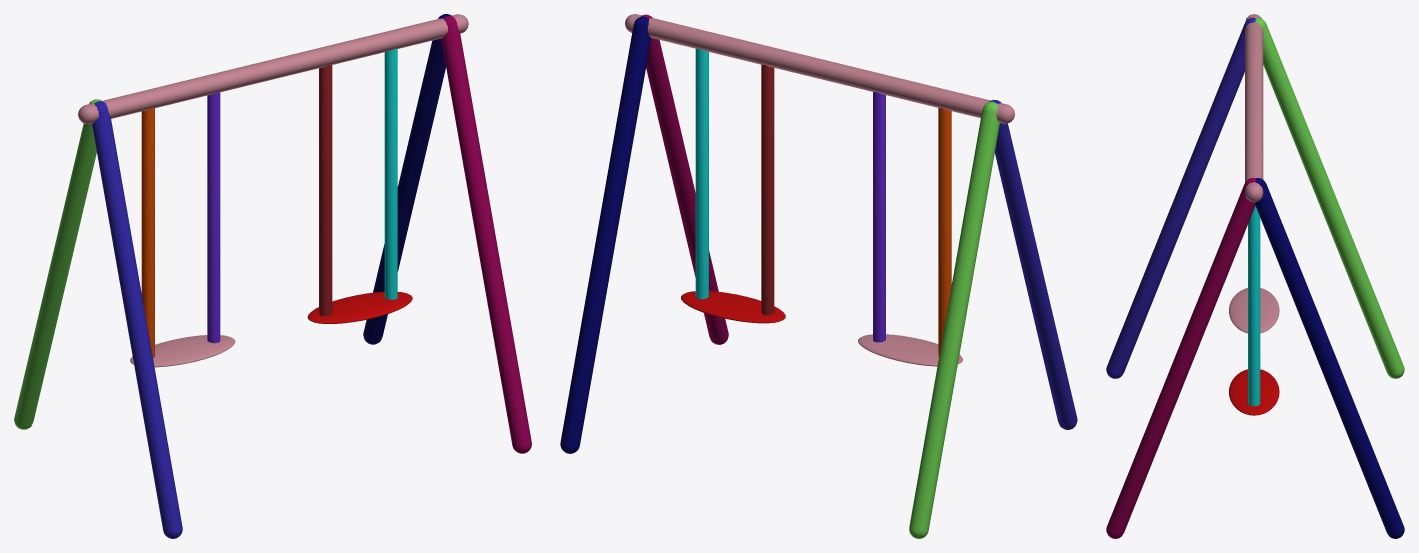
The model's file is Swings_02(1).fbx.
3 renders of one model, left to right at view 1: azimuth 30°, elevation 25°; view 2: azimuth 150°, elevation 25°; view 3: azimuth 270°, elevation 25°, orthographic. The views are drawn at different scales.
Visible parts, largest first — view 1: Sphere007; view 2: Sphere007; view 3: Sphere007.
Part boxes in pixels (left/top/right/bottom): Sphere007: left=14, top=14, right=531, bottom=538; Sphere007: left=560, top=14, right=1077, bottom=538; Sphere007: left=1106, top=14, right=1404, bottom=538.
Bounding box in the file's own units: 155 × 146 × 110.
